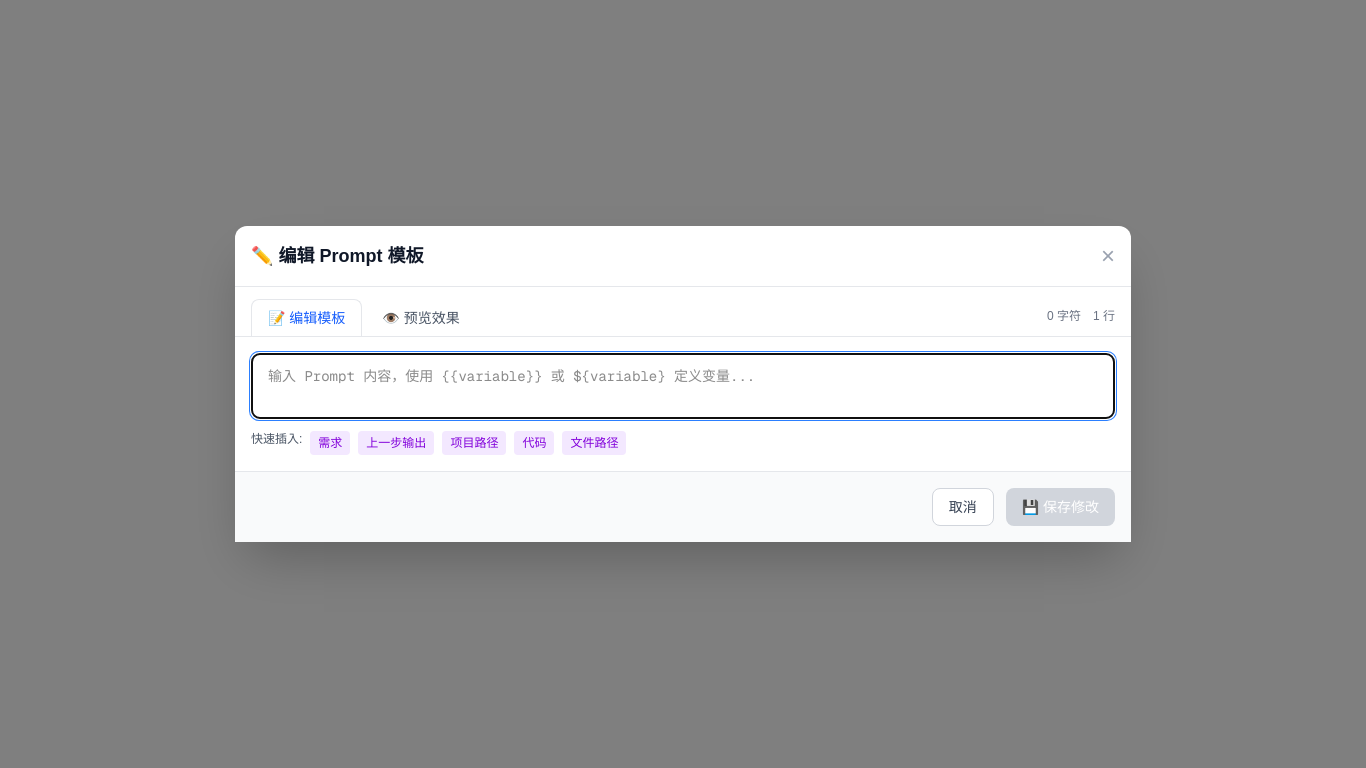
it: PromptEditorModal › 点击快速插入按钮应该添加变量
Click the button "需求" at (330, 443), box [310,431,350,455]
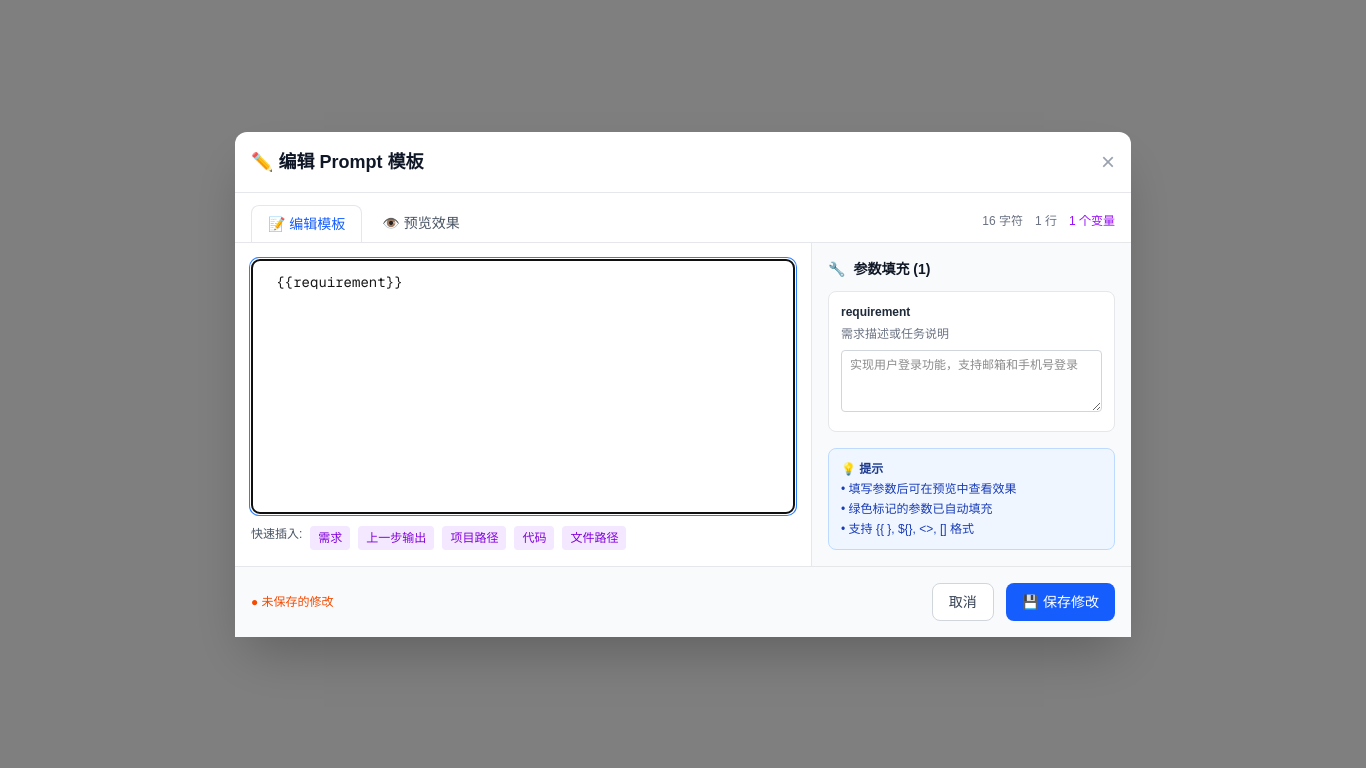
Result: the text box with placeholder "输入 Prompt 内容，使用 {{variable}} 或 ${variable} 定义变量..." holds " {{requirement}}" at [251,258,795,514]
